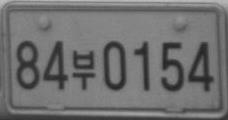0: (102, 40, 126, 91)
1: (131, 40, 157, 91)
4: (187, 41, 214, 93), (42, 40, 68, 90)
5: (160, 41, 185, 92)
8: (15, 39, 40, 90)
부: (71, 50, 95, 90)
